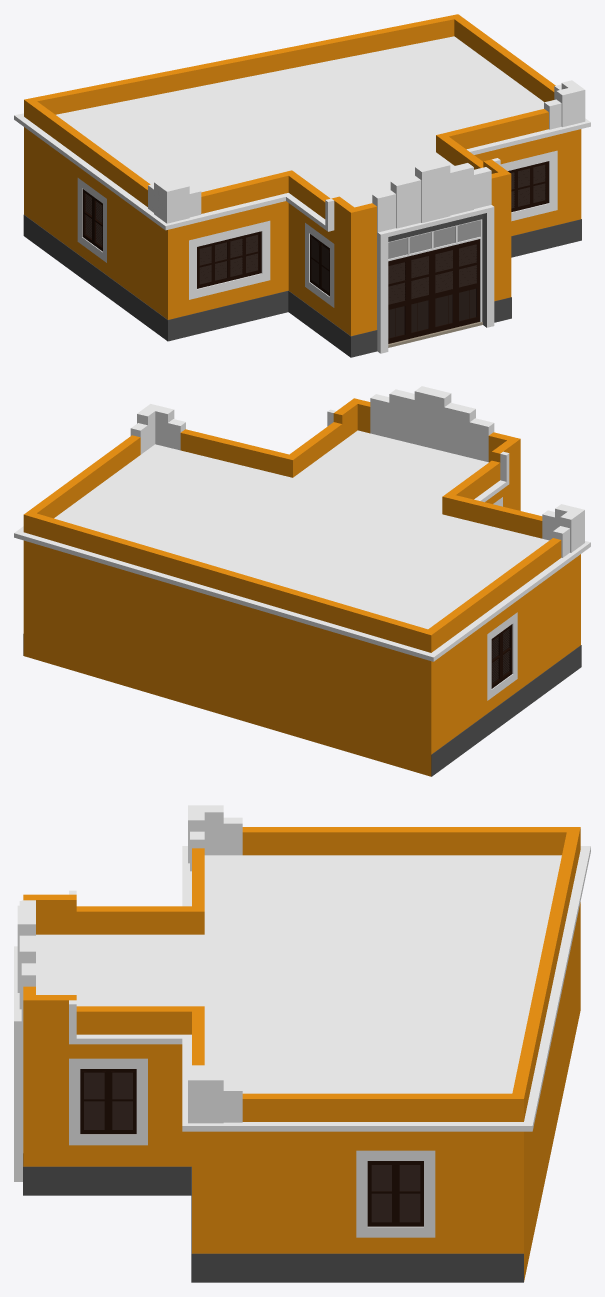
The model's file is Existing+Albergue_middle.gltf.
The picture shows the model from 3 angles, top to bottom: view 1: azimuth 30°, elevation 25°; view 2: azimuth 150°, elevation 25°; view 3: azimuth 270°, elevation 25°; orthographic projection. The views are drawn at different scales.
Visible parts, largest first — view 1: root; view 2: root; view 3: root.
Part boxes in pixels (left/top/right/bottom): root: left=14, top=14, right=590, bottom=357; root: left=14, top=386, right=590, bottom=776; root: left=14, top=805, right=590, bottom=1282.
Size of the model in its own units: 10.47 by 4 by 9.11.
